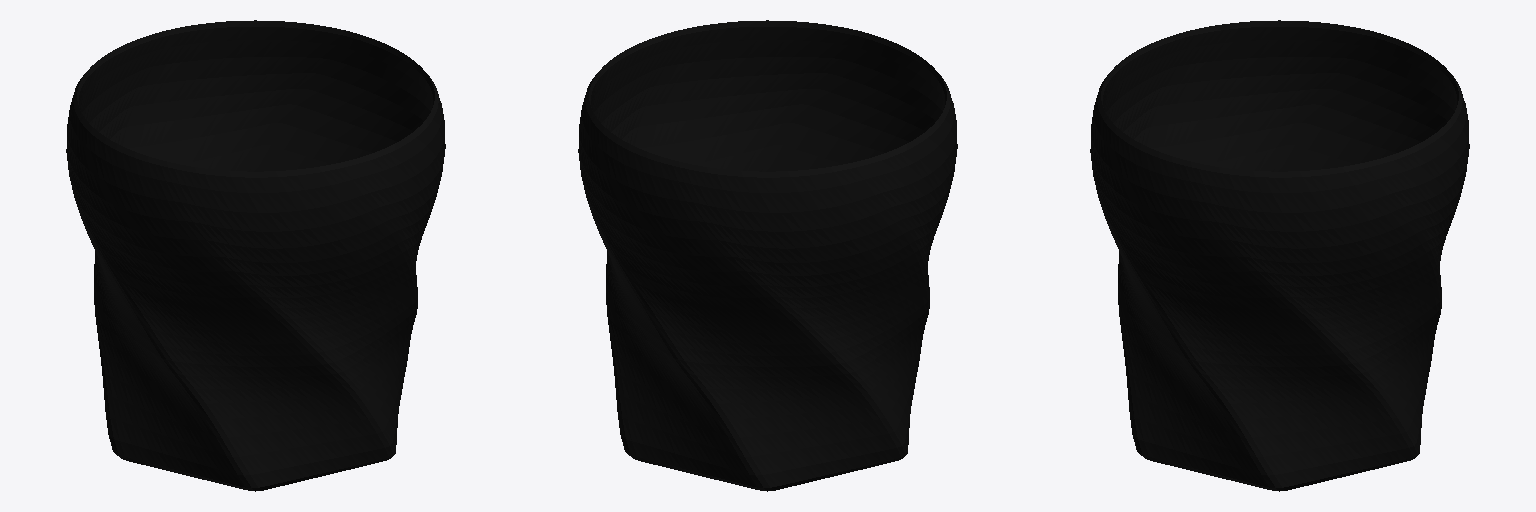
URDF robot description (glass1):
<?xml version="1.0"?>
<robot name="glass1">
  <material name="glass">
    <color rgba="0.1 0.1 0.1 0.15"/>
  </material>

  <link name="root">
    <visual>
      <origin xyz="0.0 0.0 0.0"/>
      <material name="glass"/>
      <geometry>
        <mesh filename="../../meshes/objects/glass1.obj" scale="0.04 0.04 0.04"/>
      </geometry>
    </visual>
    <collision>
      <origin xyz="0.0 0.0 0.0"/>
      <geometry>
        <mesh filename="../../meshes/objects/glass1_vhacd.obj" scale="0.04 0.04 0.04"/>
      </geometry>
    </collision>
  </link>

</robot>

--- Facts derived from the render (not from the file) ---
3 views of the same robot in one strip: view 1: azimuth 30°, elevation 25°; view 2: azimuth 150°, elevation 25°; view 3: azimuth 270°, elevation 25° (orthographic).
Model glass1 with 1 links and 0 joints (none), rooted at root, posed every joint at zero.
Visible links, largest first — view 1: root; view 2: root; view 3: root.
Link boxes in pixels (left/top/right/bottom): root: left=66, top=20, right=445, bottom=491; root: left=578, top=20, right=957, bottom=491; root: left=1090, top=20, right=1469, bottom=491.
Bounding box of the posed robot: 0.1294 × 0.1298 × 0.1249 m (x, y, z).
Meshes: 1 distinct files referenced, 1 mesh visuals loaded (1 OBJ).